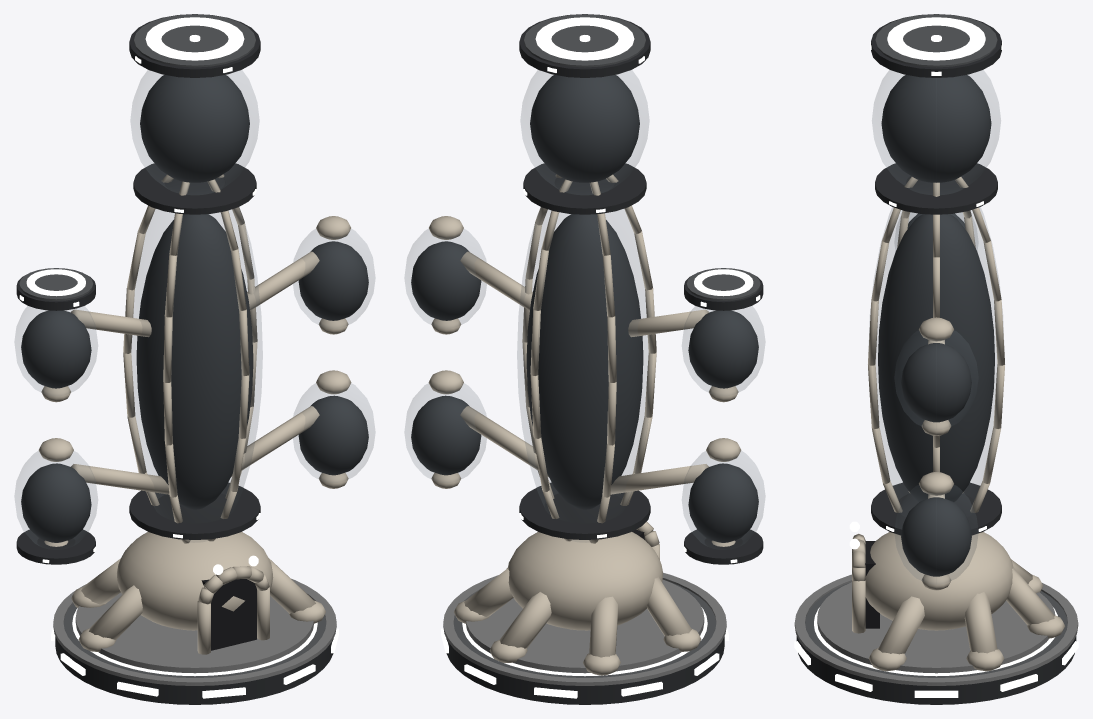
Rendered from Skin_BioPod_T4.glb.
3 renders of one model, left to right at view 1: azimuth 30°, elevation 25°; view 2: azimuth 150°, elevation 25°; view 3: azimuth 270°, elevation 25°, orthographic.
Visible parts, largest first — view 1: Skin_BioPod_T4; view 2: Skin_BioPod_T4; view 3: Skin_BioPod_T4.
Boxes of the visible parts, x1=… form: Skin_BioPod_T4: x1=14, y1=14, x2=375, y2=704; Skin_BioPod_T4: x1=404, y1=14, x2=765, y2=704; Skin_BioPod_T4: x1=794, y1=14, x2=1078, y2=704.
Bounding box in the file's own units: 5.94 × 9.86 × 4.17.
